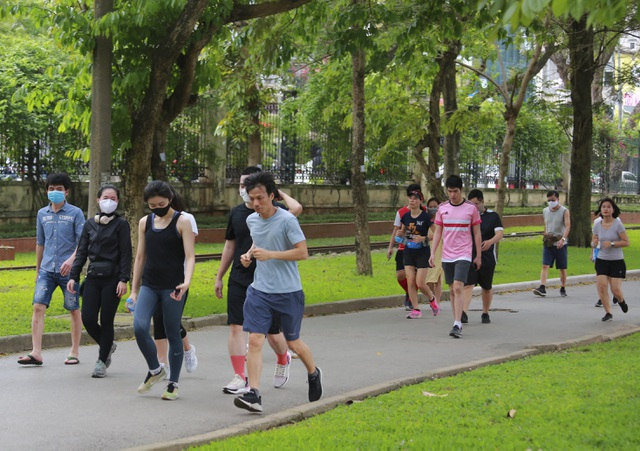person: (233, 171, 326, 416), (128, 180, 199, 405), (13, 170, 87, 369), (66, 183, 135, 382), (425, 171, 486, 342), (383, 186, 440, 322), (461, 187, 506, 327), (585, 195, 633, 325), (530, 182, 575, 300)
